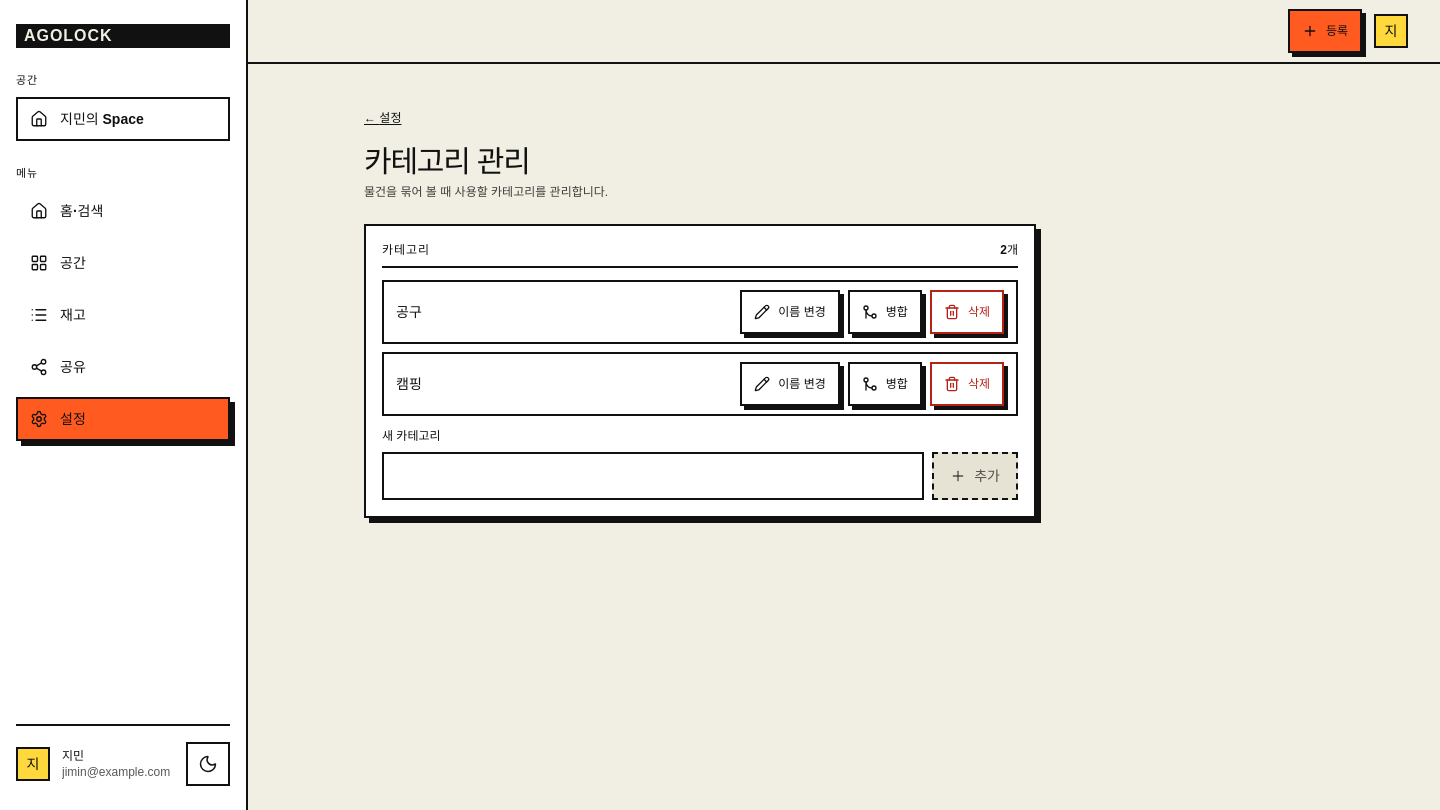
Scenario: 카테고리 관리 › 카테고리 이름을 바꾸고 다른 카테고리로 병합한다
Click the button with aria-label "공구 이름 변경": click(790, 312) x1=740 y1=290 x2=840 y2=334
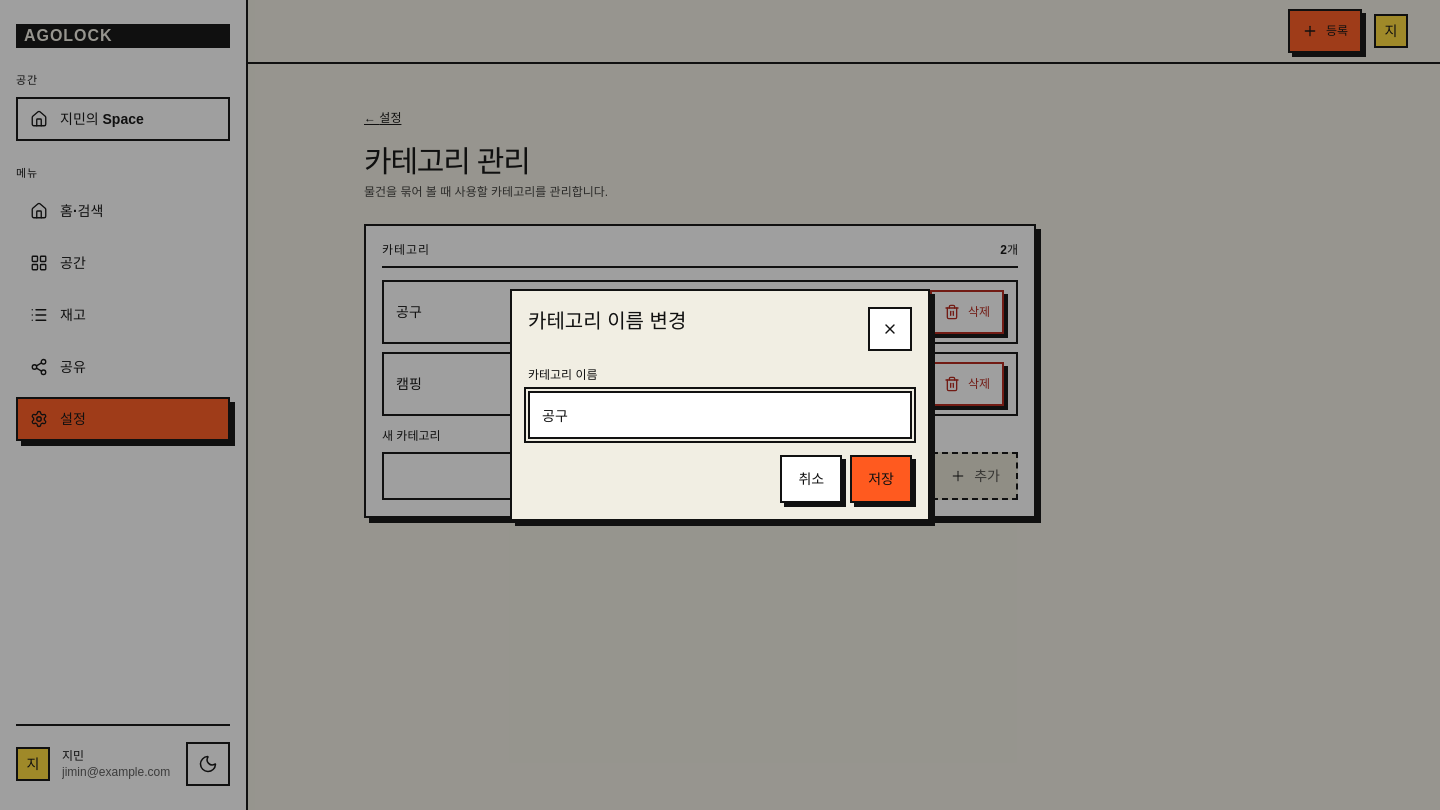
Replace the text in the field labelled "카테고리 이름" with "연장": (720, 415) x1=528 y1=391 x2=912 y2=439
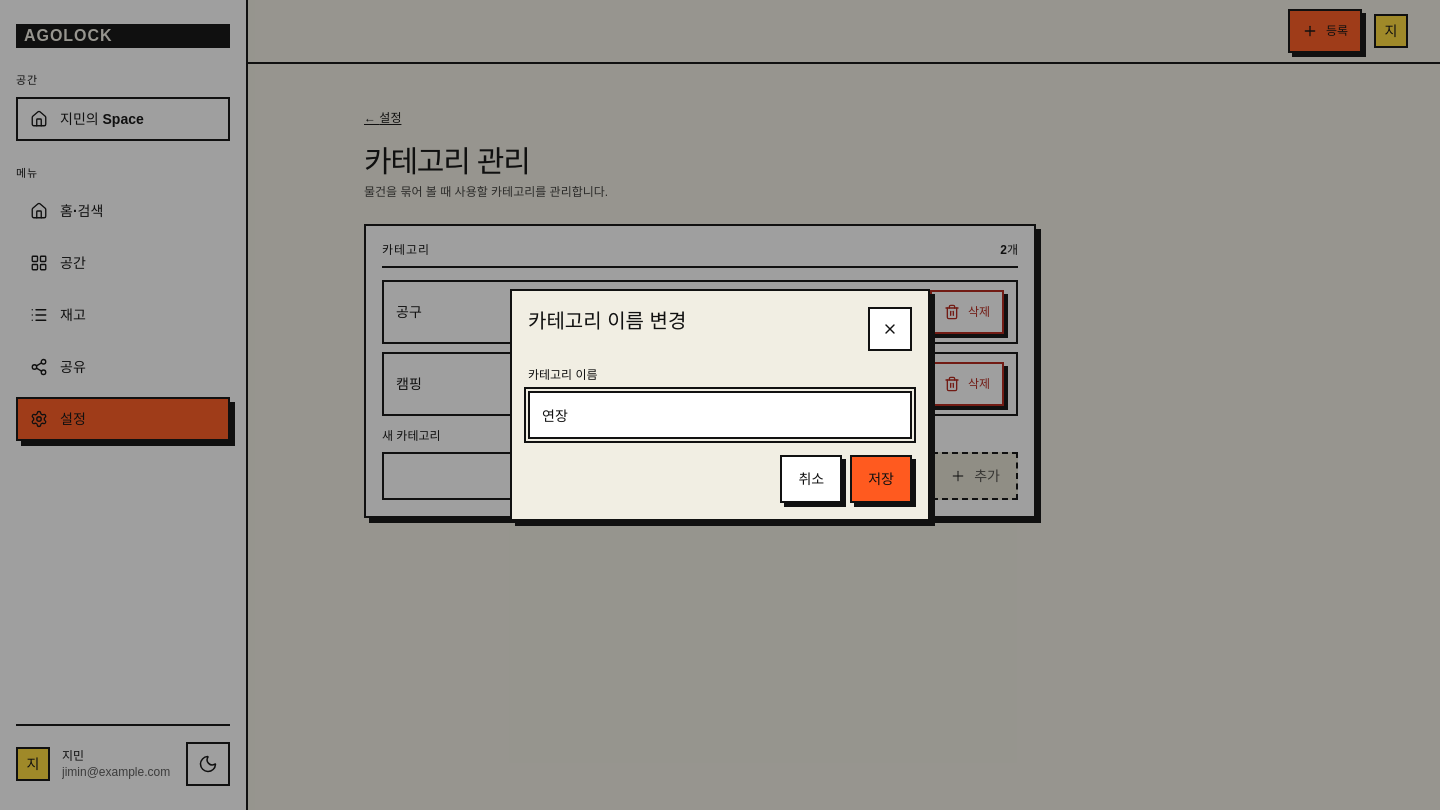
Click the button "저장": click(881, 479) x1=850 y1=455 x2=912 y2=503
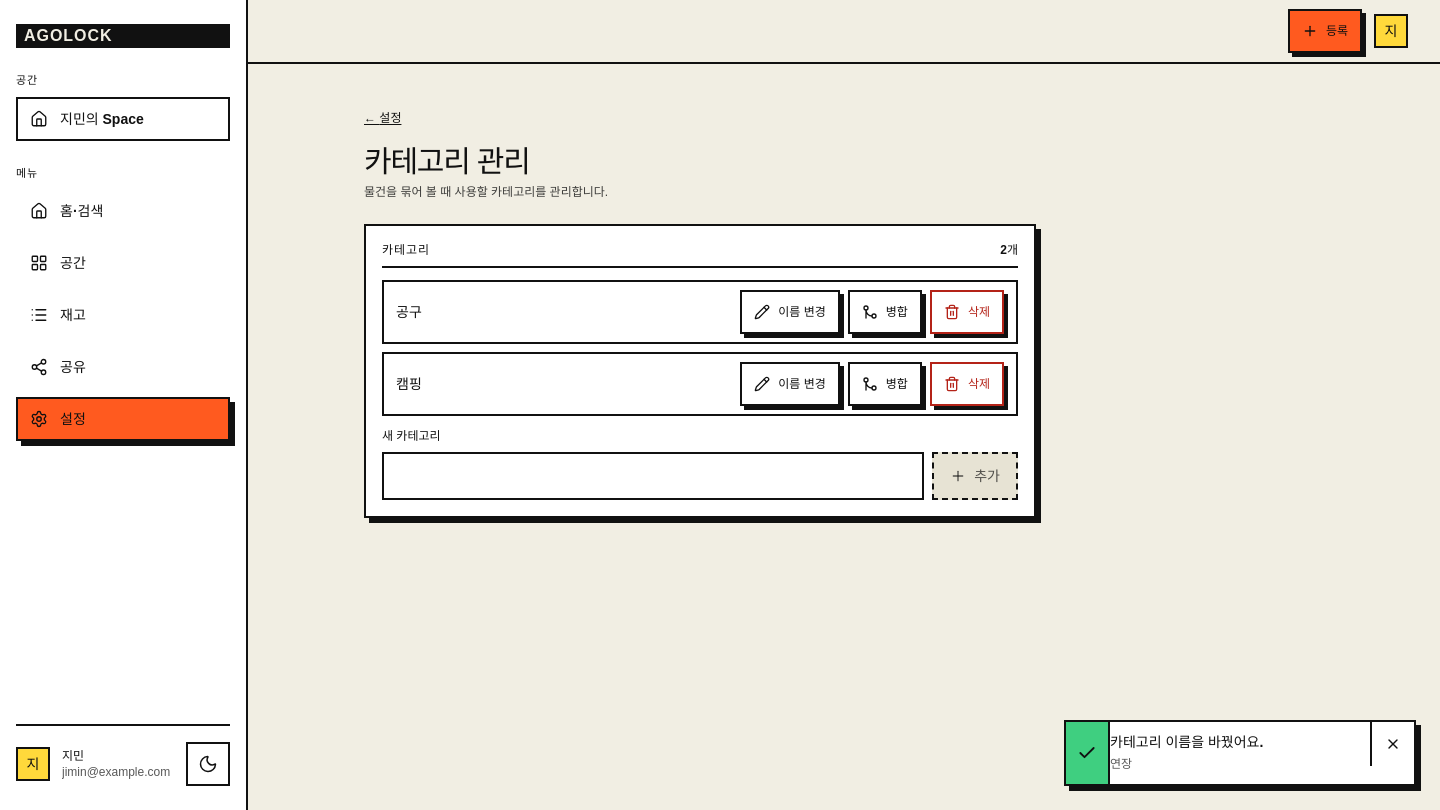
Click the button with aria-label "공구 병합": click(885, 312) x1=848 y1=290 x2=922 y2=334
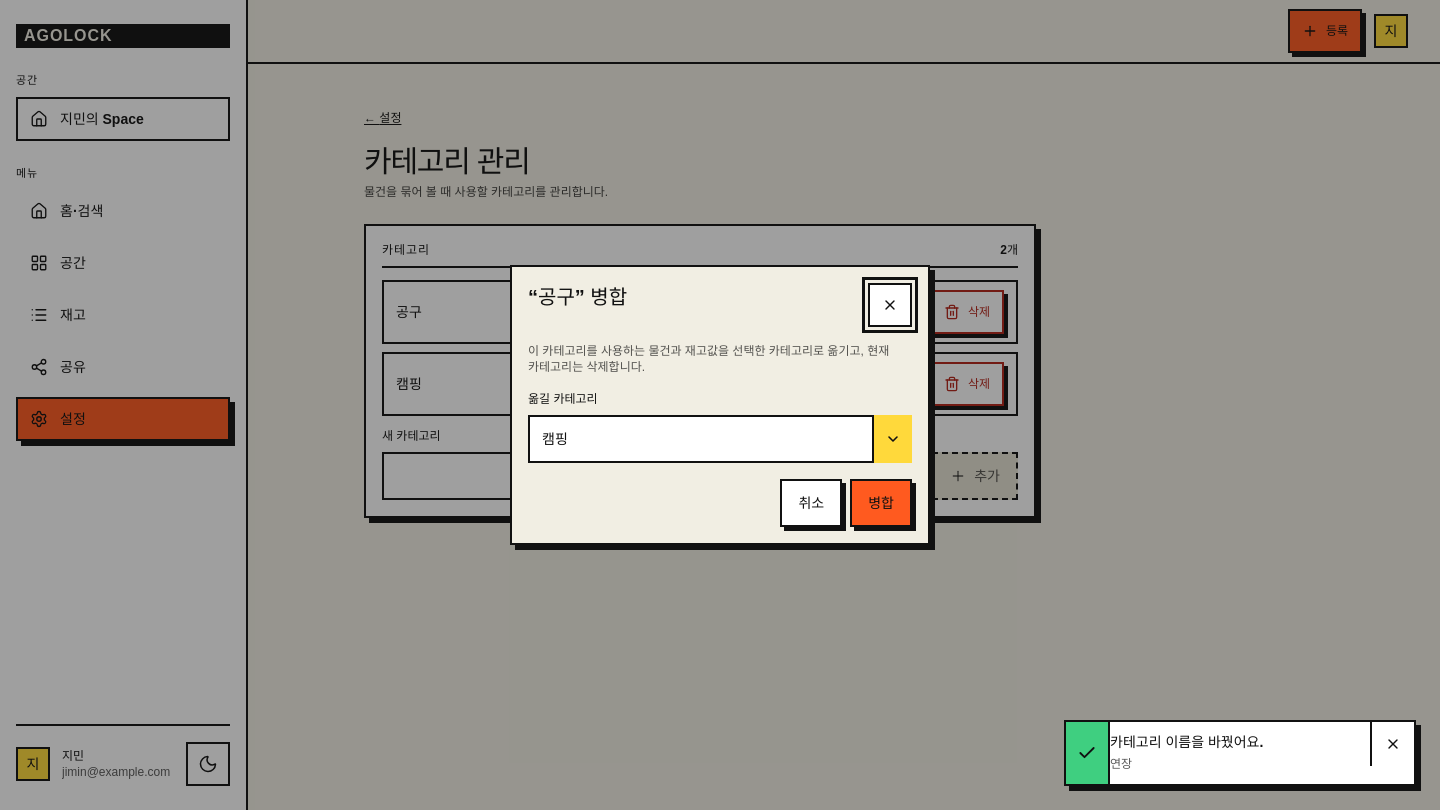
Select "캠핑" in the dropdown labelled "옮길 카테고리": (720, 439) x1=528 y1=415 x2=912 y2=463
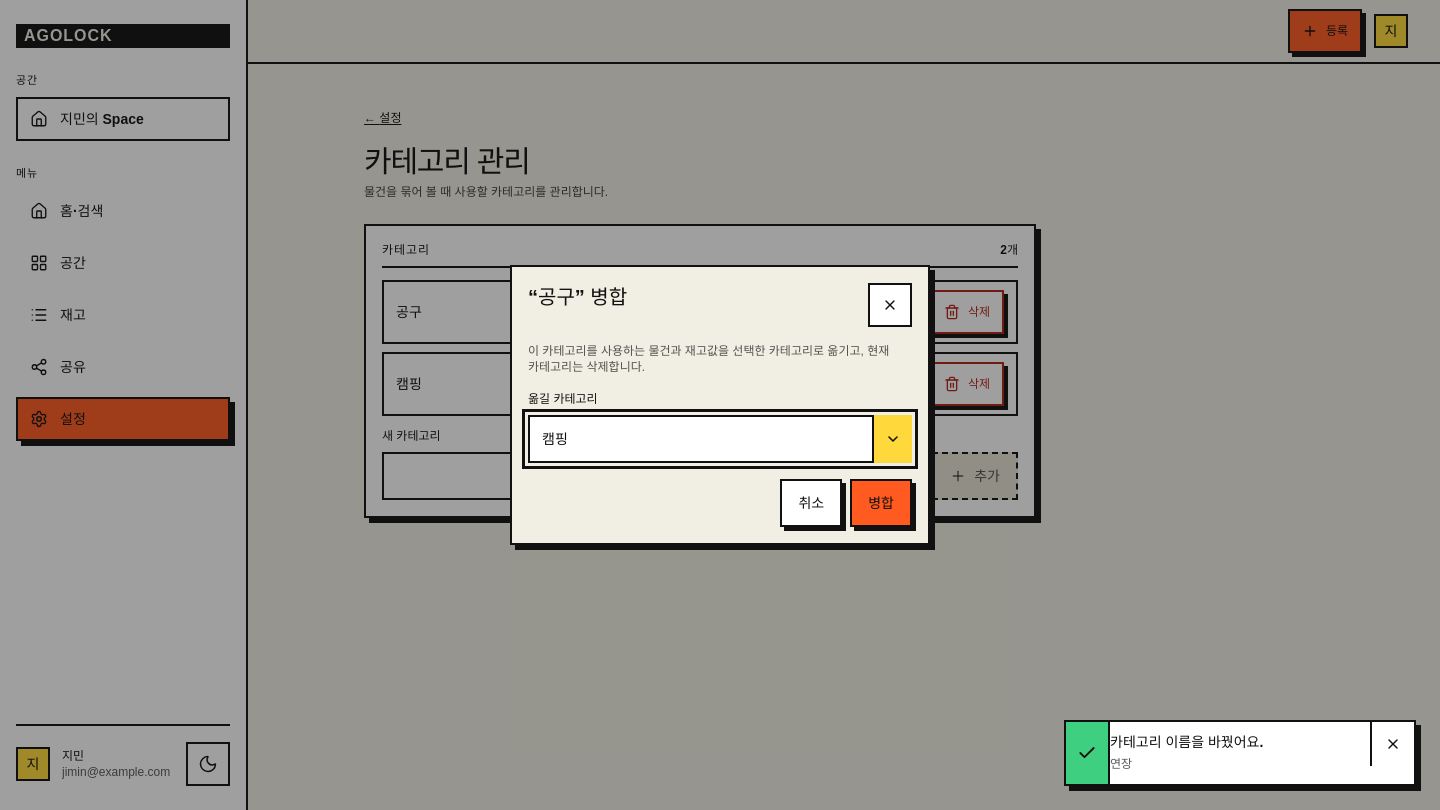
Click the button "병합": click(881, 503) x1=850 y1=479 x2=912 y2=527
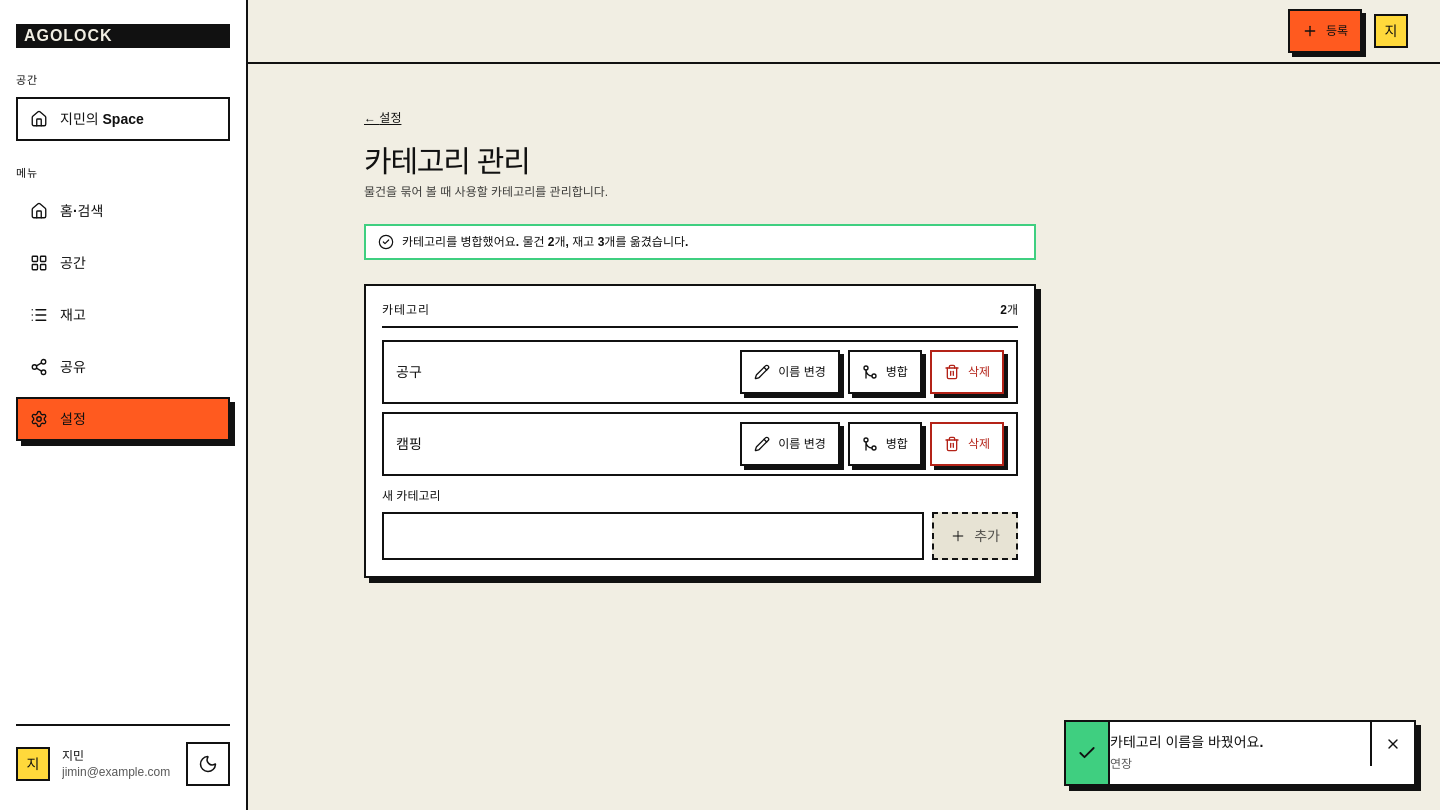
Expected: the text "카테고리를 병합했어요. 물건 2개, 재고 3개를 옮겼습니다." is shown, x1=402 y1=235 x2=688 y2=249
